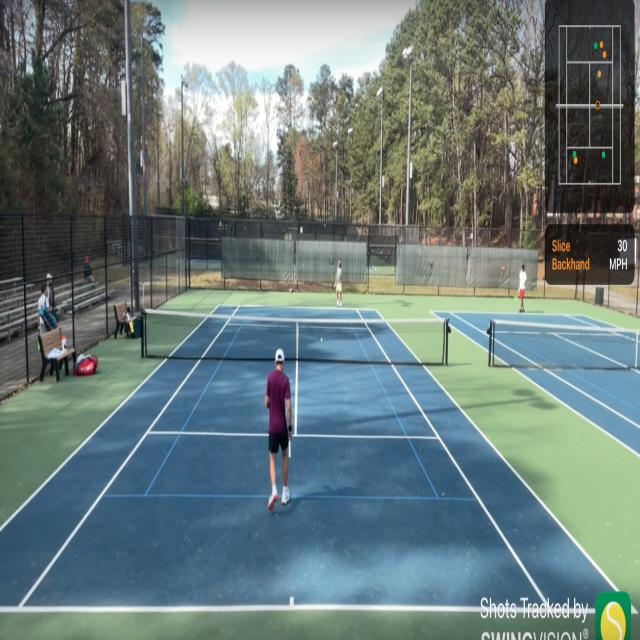ball: (320, 338, 323, 342)
